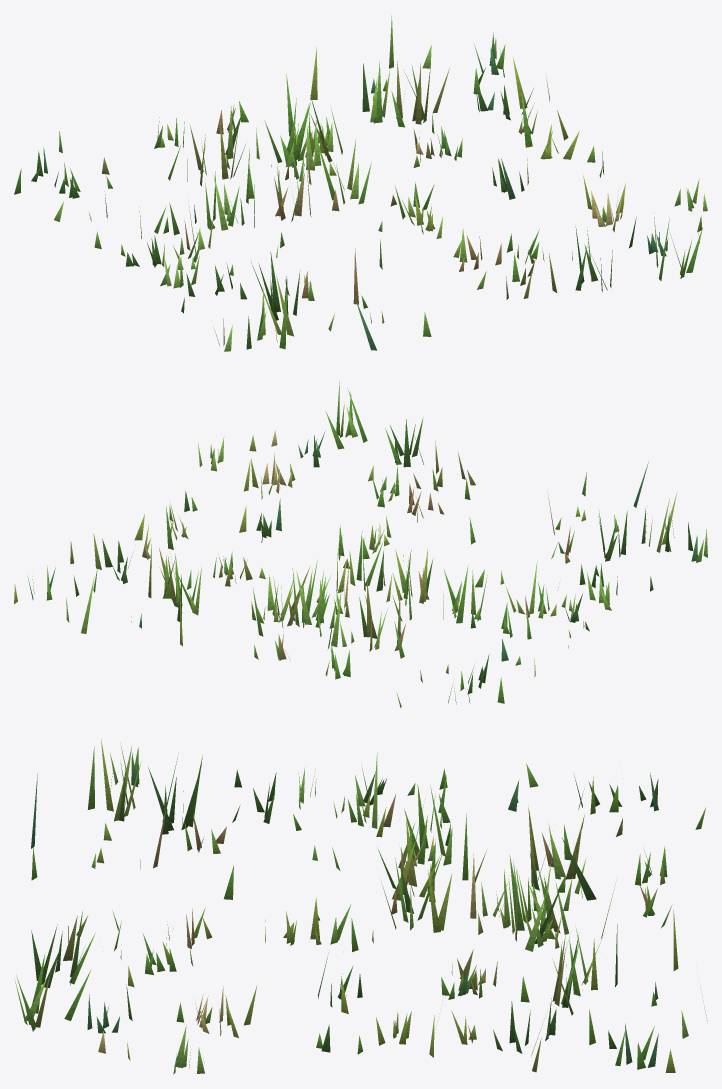
File: trava_trs.glb
The picture shows the model from 3 angles, top to bottom: view 1: azimuth 30°, elevation 25°; view 2: azimuth 150°, elevation 25°; view 3: azimuth 270°, elevation 25°; orthographic projection. The views are drawn at different scales.
Visible parts, largest first — view 1: trava_trs; view 2: trava_trs; view 3: trava_trs.
Boxes of the visible parts, left/top/right/bottom form: trava_trs: left=14, top=15, right=707, bottom=351; trava_trs: left=14, top=381, right=707, bottom=707; trava_trs: left=14, top=739, right=707, bottom=1074.
Bounding box in the file's own units: 2.05 × 0.2352 × 2.02.
1 material, 1 textured.
